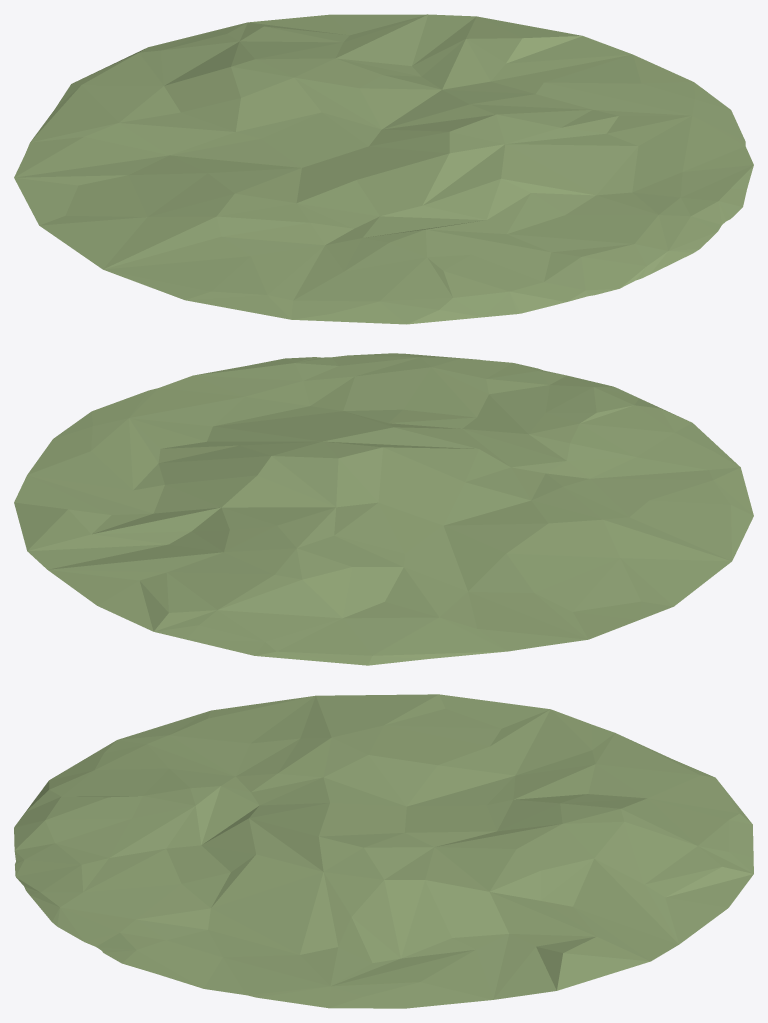
The model's file is 泥土地.fbx.
The picture shows the model from 3 angles, top to bottom: view 1: azimuth 30°, elevation 25°; view 2: azimuth 150°, elevation 25°; view 3: azimuth 270°, elevation 25°; orthographic projection.
Parts seen in each view (by area): view 1: 泥土地; view 2: 泥土地; view 3: 泥土地.
Part boxes in pixels (x1,y1,x2,y2): 泥土地: (14, 14, 753, 324); 泥土地: (14, 353, 753, 665); 泥土地: (14, 694, 753, 1008).
Size of the model in its own units: 685 by 31.97 by 682.
